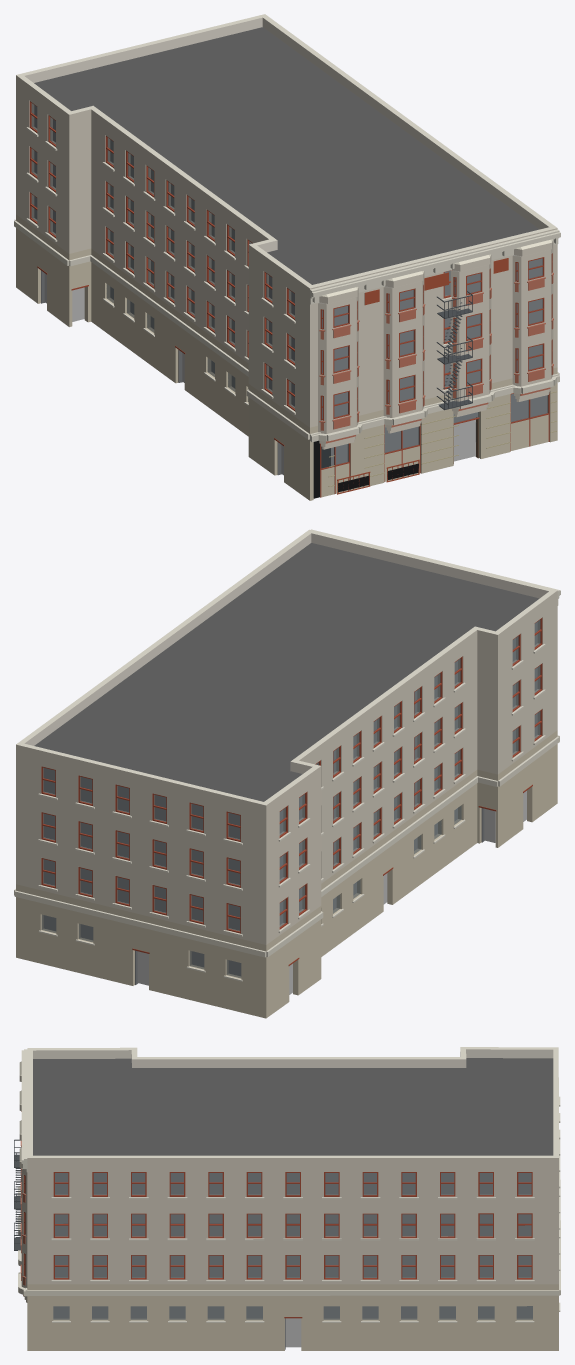
Rendered from exterior.glb.
The picture shows the model from 3 angles, top to bottom: view 1: azimuth 30°, elevation 25°; view 2: azimuth 150°, elevation 25°; view 3: azimuth 270°, elevation 25°; orthographic projection. The views are drawn at different scales.
Visible parts, largest first — view 1: shell, roof, bay-windows, shadow-proxy, glazing, trim, bay-glazing, bay-windows-crown, frames, storefront, relief-0, string-course (+1 smaller); view 2: shell, roof, glazing, shadow-proxy, trim, frames; view 3: shell, roof, glazing, shadow-proxy, trim, frames, bay-windows, fire-escape, bay-windows-crown.
Part boxes in pixels (x1=…): shell: x1=16, y1=14, x2=557, y2=500; roof: x1=34, y1=27, x2=539, y2=284; bay-windows: x1=318, y1=240, x2=553, y2=441; shadow-proxy: x1=34, y1=105, x2=546, y2=475; glazing: x1=31, y1=103, x2=548, y2=468; trim: x1=14, y1=127, x2=560, y2=439; bay-glazing: x1=320, y1=253, x2=552, y2=420; bay-windows-crown: x1=319, y1=239, x2=553, y2=449; frames: x1=29, y1=101, x2=455, y2=410; storefront: x1=37, y1=266, x2=549, y2=498; relief-0: x1=328, y1=258, x2=556, y2=494; string-course: x1=310, y1=375, x2=559, y2=442; shell: x1=16, y1=529, x2=557, y2=1018; roof: x1=34, y1=543, x2=539, y2=801; glazing: x1=42, y1=620, x2=540, y2=978; shadow-proxy: x1=44, y1=622, x2=537, y2=994; trim: x1=14, y1=529, x2=560, y2=981; frames: x1=41, y1=618, x2=542, y2=933; shell: x1=27, y1=1047, x2=558, y2=1350; roof: x1=33, y1=1058, x2=553, y2=1155; glazing: x1=53, y1=1173, x2=532, y2=1320; shadow-proxy: x1=53, y1=1173, x2=532, y2=1347; trim: x1=21, y1=1049, x2=560, y2=1322; frames: x1=53, y1=1172, x2=532, y2=1279; bay-windows: x1=19, y1=1075, x2=27, y2=1288; fire-escape: x1=14, y1=1139, x2=21, y2=1250; bay-windows-crown: x1=19, y1=1061, x2=27, y2=1302.
Bounding box in the file's own units: 16.2 × 12.94 × 33.25.
